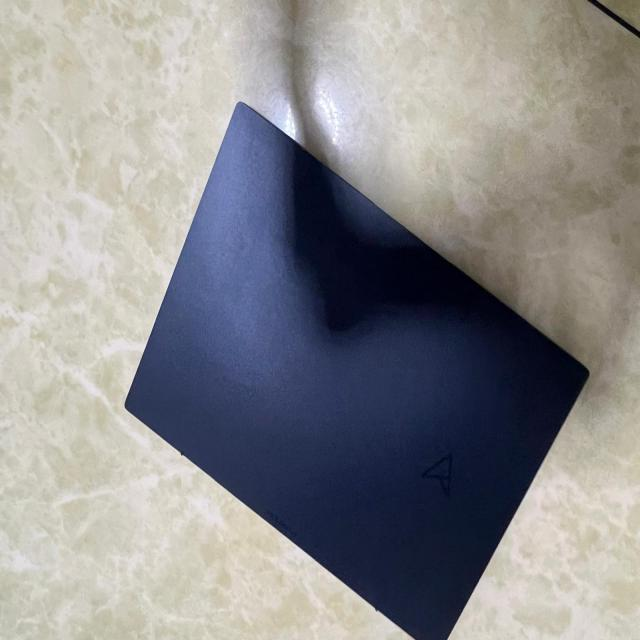laptop: (123, 100, 590, 639)
